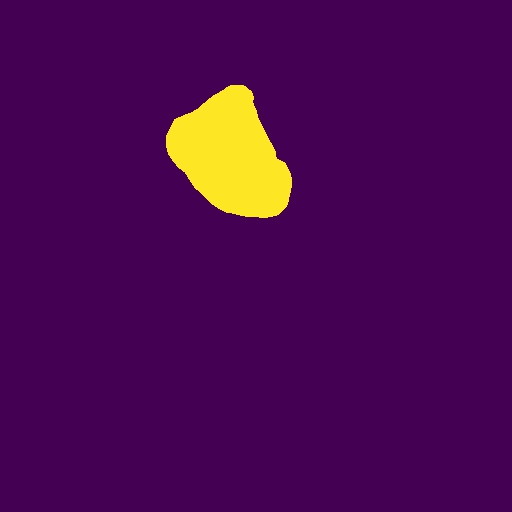Menigiomia_tumour: (166, 85, 292, 218)
